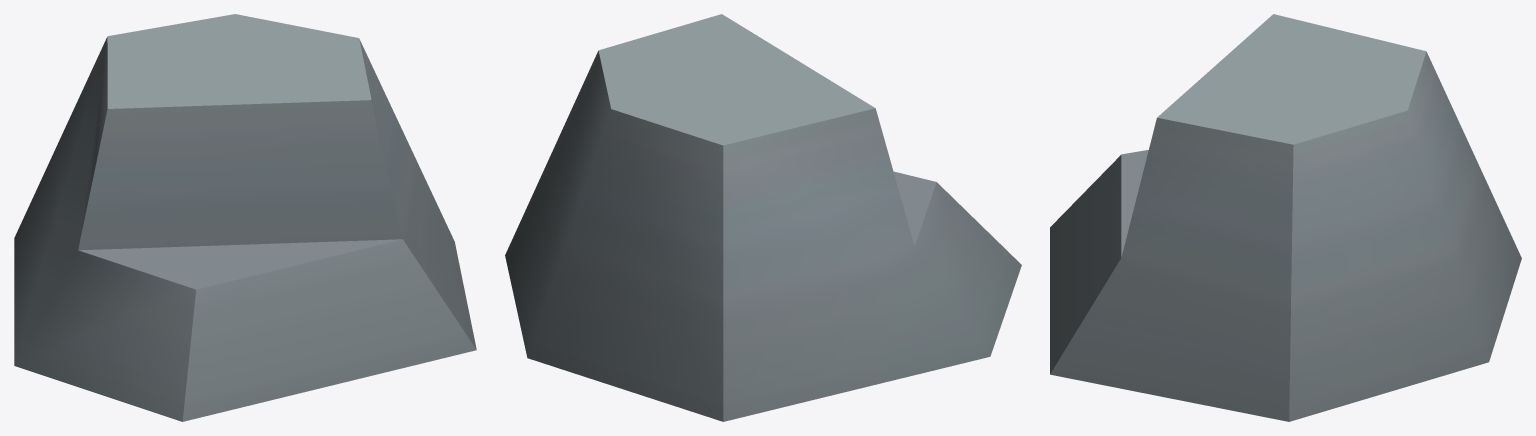
File: rock_single_b.glb
3 views of the same model, side by side, from view 1: azimuth 30°, elevation 25°; view 2: azimuth 150°, elevation 25°; view 3: azimuth 270°, elevation 25° (orthographic). The views are drawn at different scales.
Visible parts, largest first — view 1: rock_single_B; view 2: rock_single_B; view 3: rock_single_B.
Boxes of the visible parts, x1=… form: rock_single_B: x1=14, y1=14, x2=476, y2=421; rock_single_B: x1=505, y1=14, x2=1021, y2=421; rock_single_B: x1=1050, y1=14, x2=1521, y2=421.
Bounding box in the file's own units: 0.2866 × 0.1346 × 0.2497.
1 material, 1 textured.
